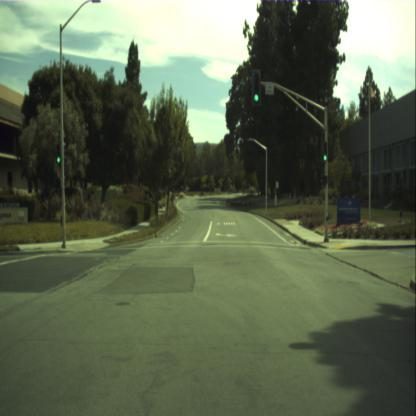Green: (252, 69, 260, 105), (324, 142, 326, 160)
GreenLeft: (56, 144, 60, 161)
off: (322, 175, 326, 184)
